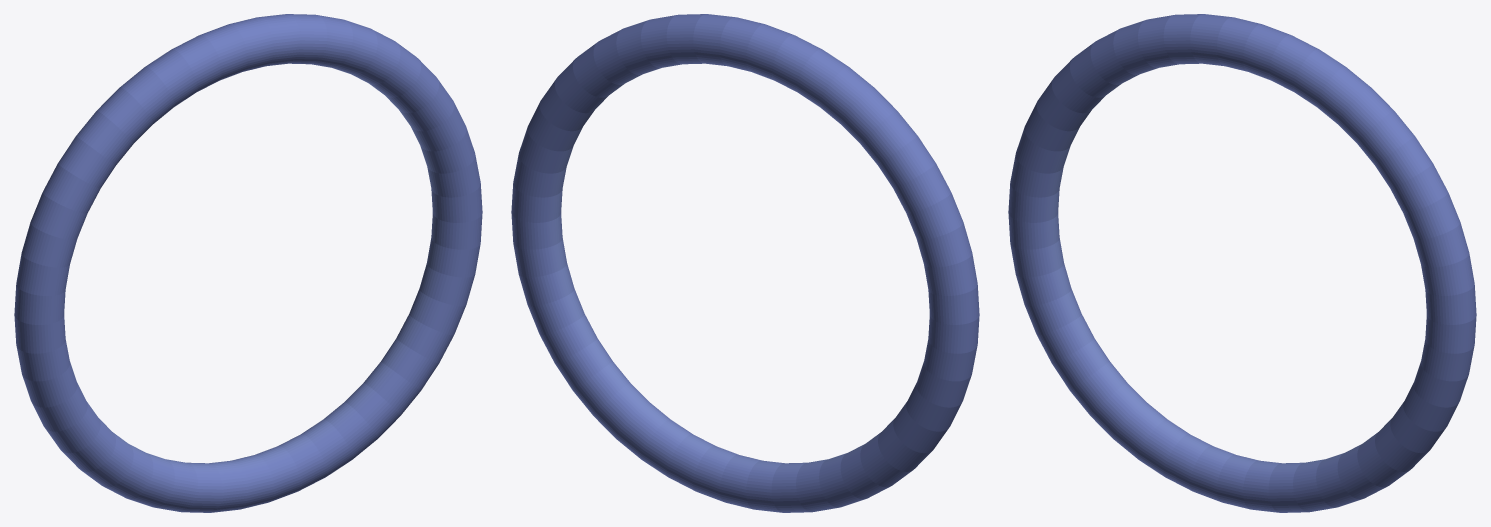
3 renders of one model, left to right at view 1: azimuth 30°, elevation 25°; view 2: azimuth 150°, elevation 25°; view 3: azimuth 330°, elevation 25°, orthographic.
Parts seen in each view (by area): view 1: world; view 2: world; view 3: world.
Part boxes in pixels (left/top/right/bottom): world: left=14, top=14, right=482, bottom=512; world: left=511, top=14, right=979, bottom=512; world: left=1008, top=14, right=1476, bottom=512.
Size of the model in its own units: 24.27 by 24.22 by 2.26.
